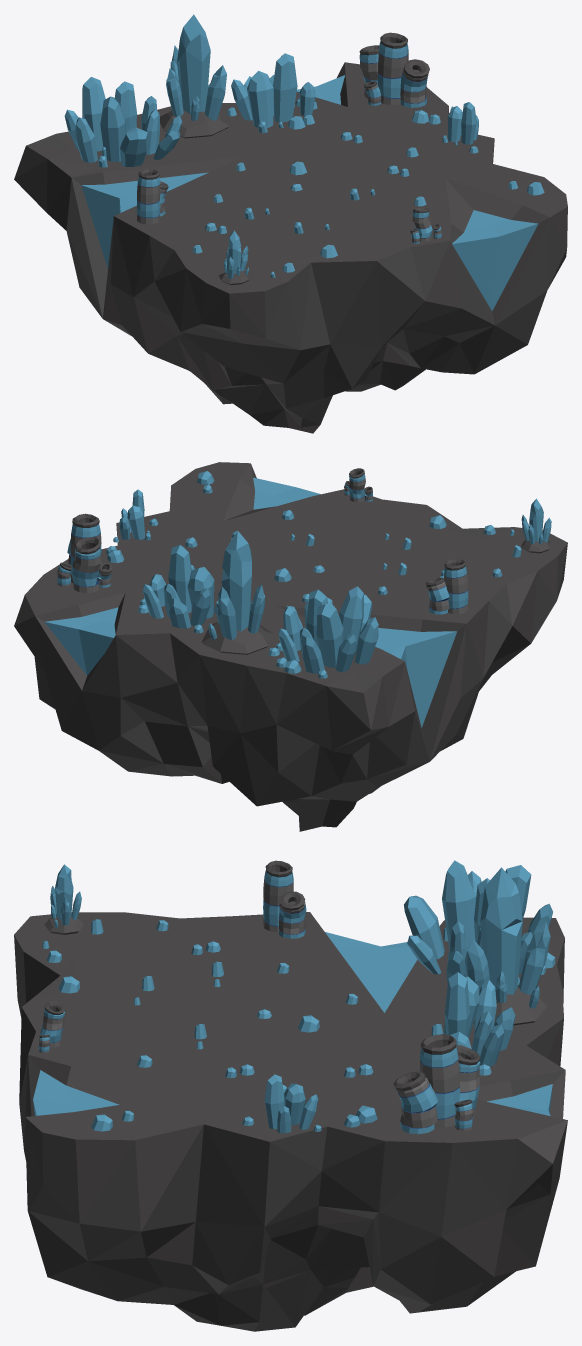
File: Island_11.glb
3 renders of one model, top to bottom at view 1: azimuth 30°, elevation 25°; view 2: azimuth 150°, elevation 25°; view 3: azimuth 270°, elevation 25°, orthographic. The views are drawn at different scales.
Visible parts, largest first — view 1: Island_11_Base, Island_11; view 2: Island_11_Base, Island_11; view 3: Island_11_Base, Island_11.
Part boxes in pixels (x1,y1,x2,y2): Island_11_Base: (14, 62, 567, 433); Island_11: (64, 14, 544, 284); Island_11_Base: (14, 462, 567, 831); Island_11: (57, 468, 551, 678); Island_11_Base: (14, 912, 567, 1331); Island_11: (38, 860, 555, 1134).
Size of the model in its own units: 19.52 by 17.31 by 19.63.
Materials: 1 (1 with a texture image).
